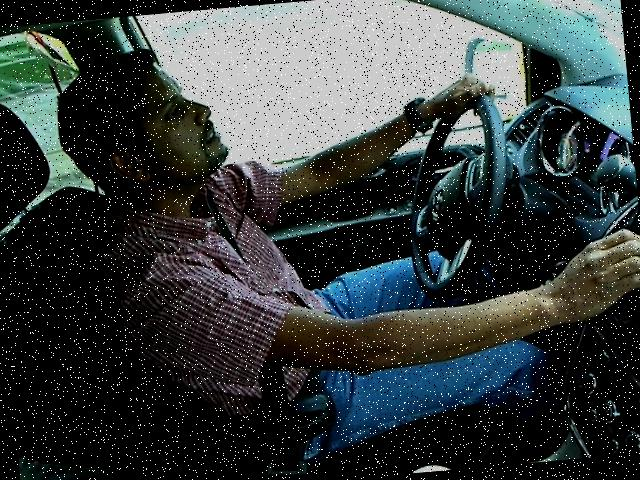c3 - Operating the Radio: (36, 0, 639, 393)
